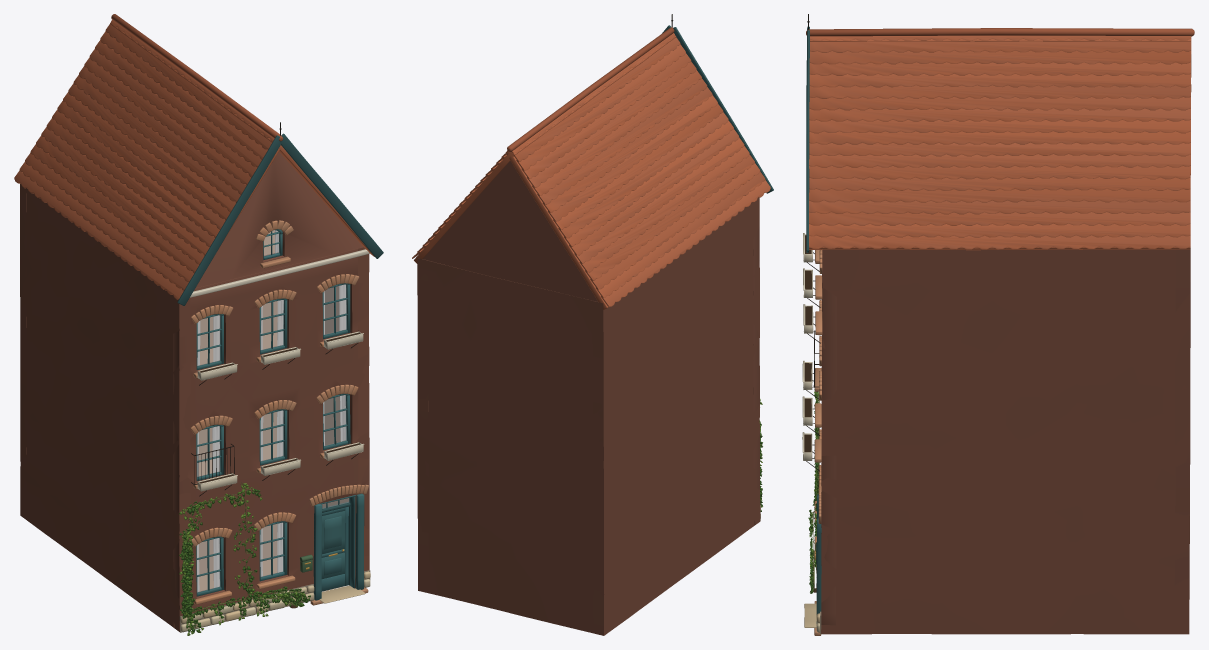
Rendered from StraightEnd_Street1.glb.
The picture shows the model from 3 angles, left to right: view 1: azimuth 30°, elevation 25°; view 2: azimuth 150°, elevation 25°; view 3: azimuth 270°, elevation 25°; orthographic projection. The views are drawn at different scales.
Visible parts, largest first — view 1: Sammel Ziegel, Sammel Stein, Sammel Lack, Sammel Putz, Glas, Sammel Putz innen, Sammel Pflanze, Vorhang Leinen, Sammel Metall; view 2: Sammel Ziegel, Sammel Stein, Sammel Lack; view 3: Sammel Ziegel, Sammel Stein, Sammel Putz, Sammel Lack, Sammel Pflanze.
Boxes of the visible parts, x1,y1,x2,y2 form: Sammel Ziegel: (20, 152, 369, 631); Sammel Stein: (14, 14, 374, 632); Sammel Lack: (177, 133, 383, 600); Sammel Putz: (179, 220, 370, 632); Glas: (197, 230, 348, 592); Sammel Putz innen: (199, 230, 348, 591); Sammel Pflanze: (179, 483, 310, 635); Vorhang Leinen: (197, 230, 346, 591); Sammel Metall: (191, 122, 358, 569); Sammel Ziegel: (417, 161, 760, 635); Sammel Stein: (412, 27, 770, 518); Sammel Lack: (662, 25, 773, 193); Sammel Ziegel: (821, 249, 1190, 634); Sammel Stein: (804, 28, 1194, 632); Sammel Putz: (804, 235, 822, 635); Sammel Lack: (802, 26, 821, 623); Sammel Pflanze: (808, 389, 818, 593).
Bounding box in the file's own units: 5.96 × 13.7 × 8.52.
